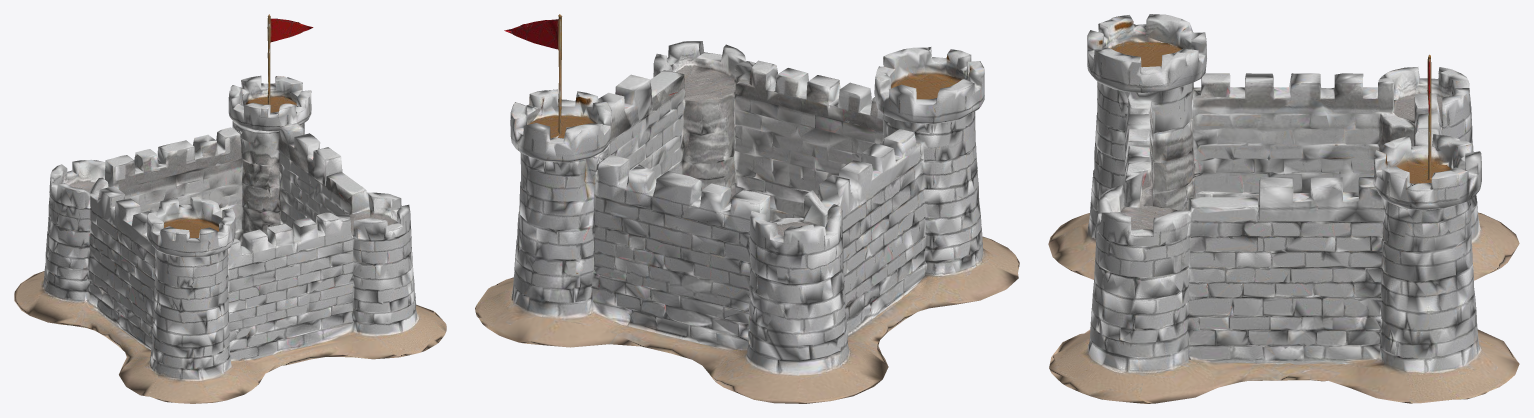
File: sling_curtainWall.glb
3 views of the same model, side by side, from view 1: azimuth 30°, elevation 25°; view 2: azimuth 150°, elevation 25°; view 3: azimuth 270°, elevation 25° (orthographic). The views are drawn at different scales.
Size of the model in its own units: 1.9 by 1.39 by 1.9.
1 material, 1 textured.
